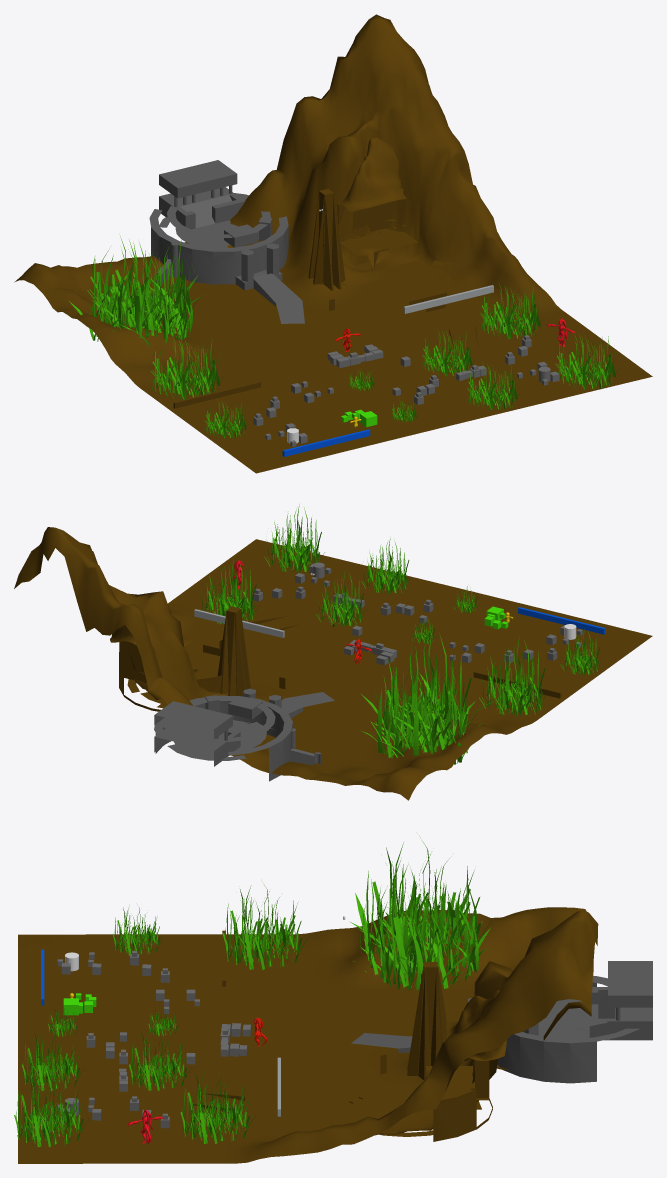
File: blockout.fbx
The picture shows the model from 3 angles, top to bottom: view 1: azimuth 30°, elevation 25°; view 2: azimuth 150°, elevation 25°; view 3: azimuth 270°, elevation 25°; orthographic projection. The views are drawn at different scales.
Visible parts, largest first — view 1: skfb_offset, g2_0; view 2: skfb_offset, g2_0; view 3: skfb_offset, g2_0.
Boxes of the visible parts, x1,y1,x2,y2 form: skfb_offset: (14,14,652,473); g2_0: (69,236,620,438); skfb_offset: (14,527,652,800); g2_0: (199,504,601,764); skfb_offset: (18,907,652,1163); g2_0: (14,837,491,1147).
Size of the model in its own units: 20330 by 9619 by 23767.
